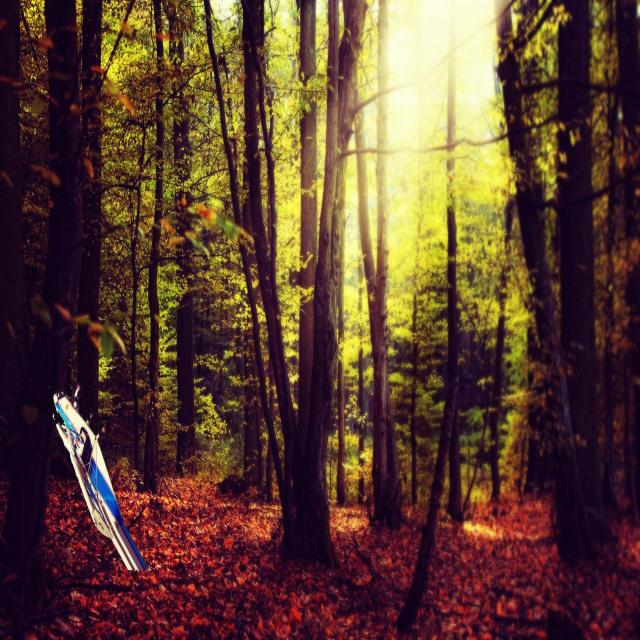airplane: (52, 383, 148, 575)
